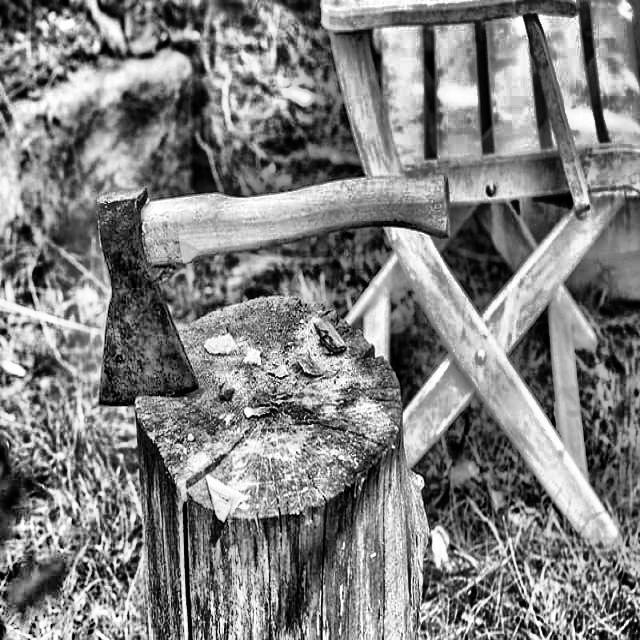kapak: (40, 157, 485, 417)
